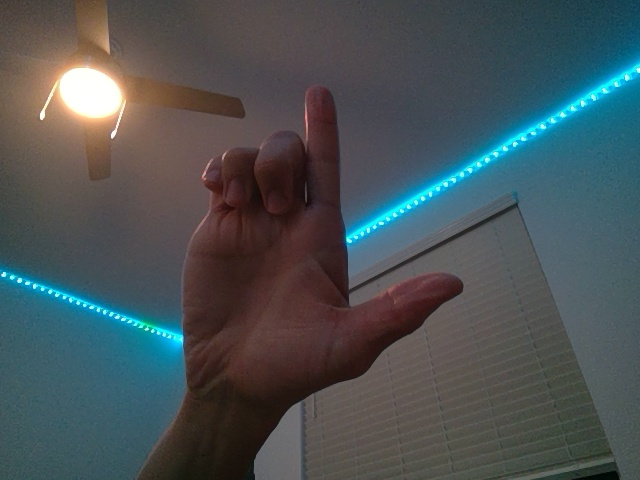l: (179, 84, 463, 451)
